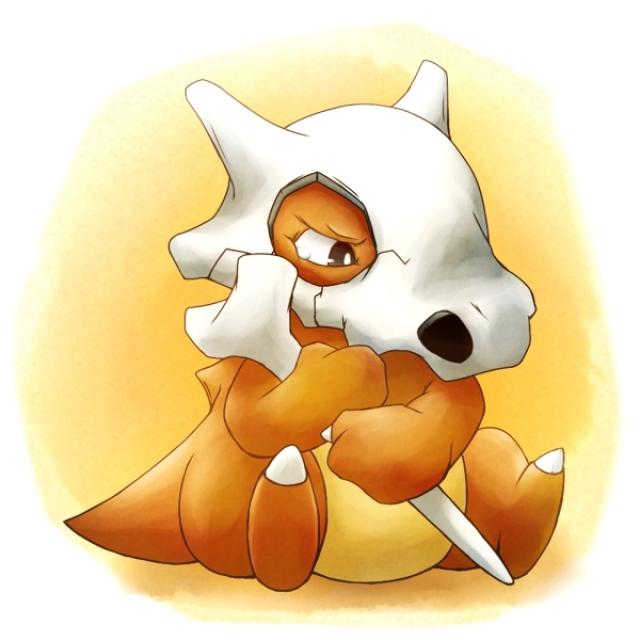Cubone: (82, 59, 570, 584)
